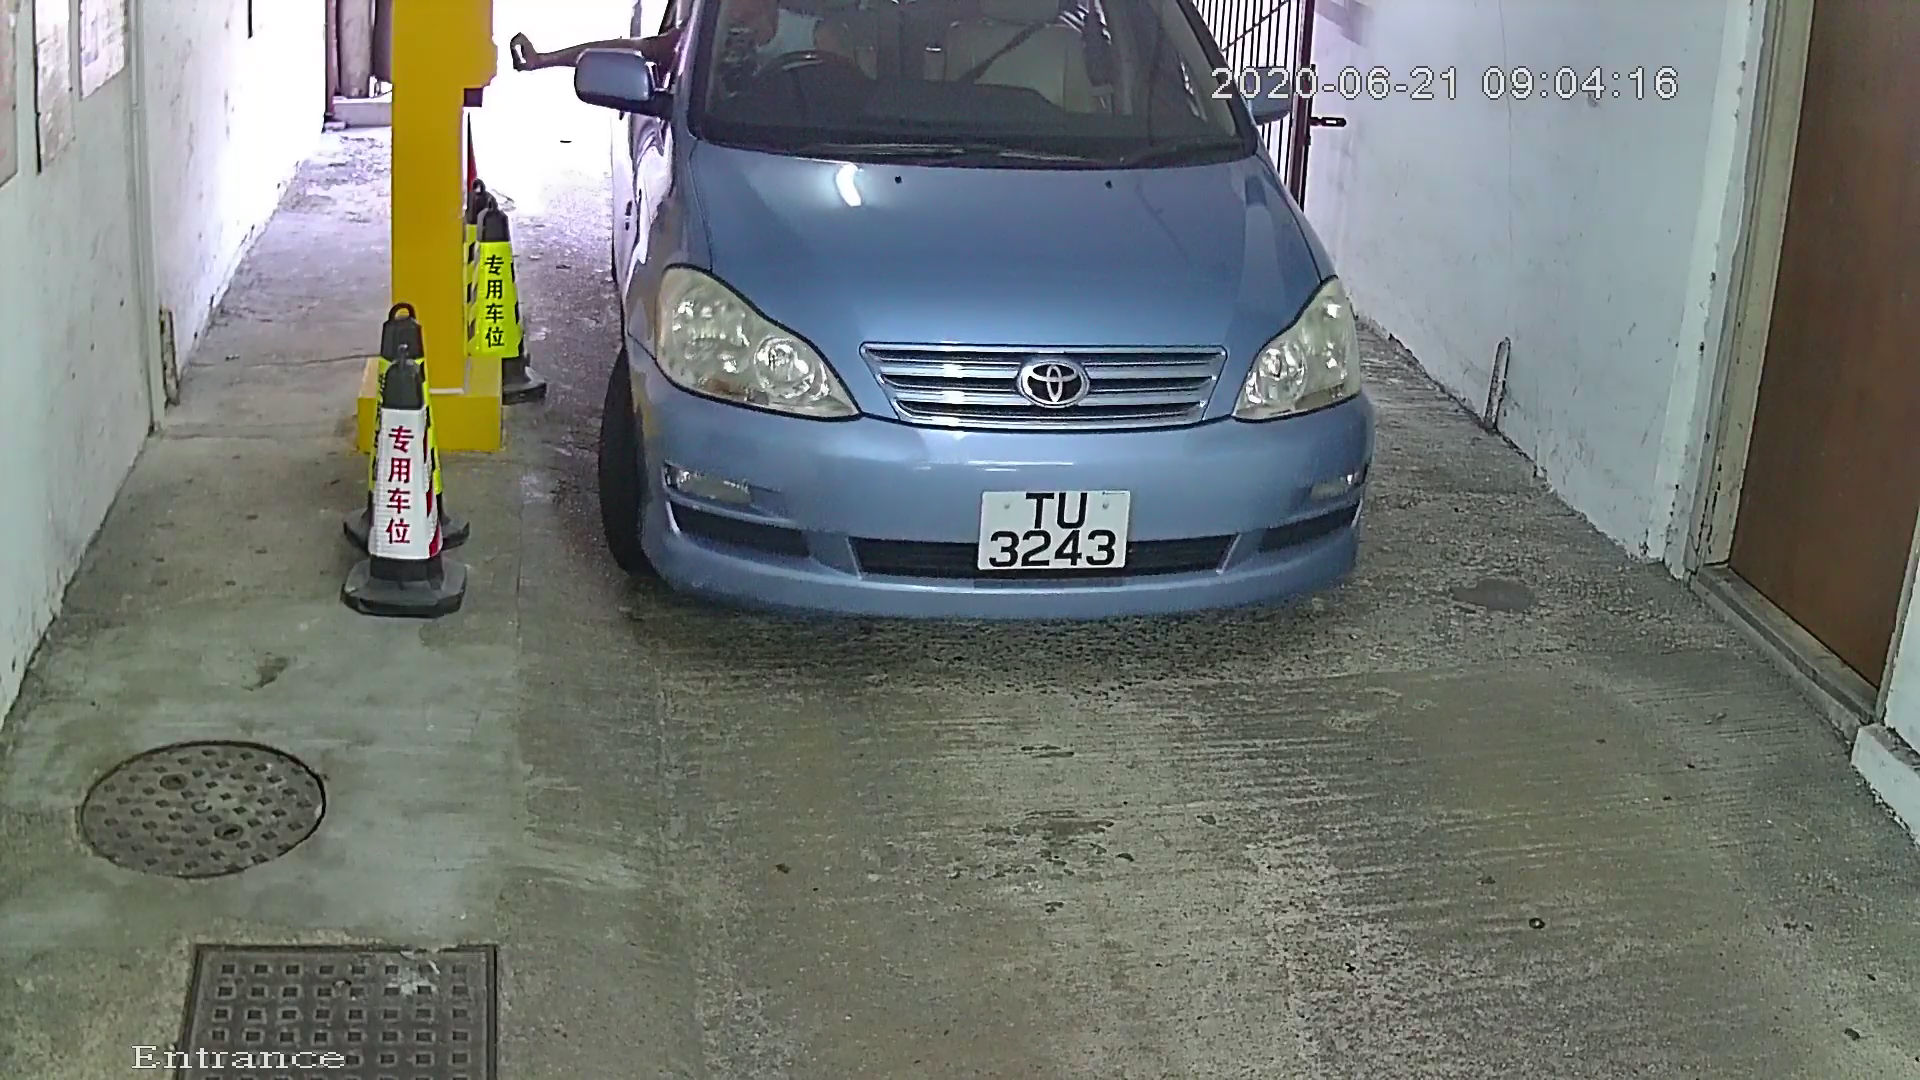privatecar: (558, 3, 1411, 661)
